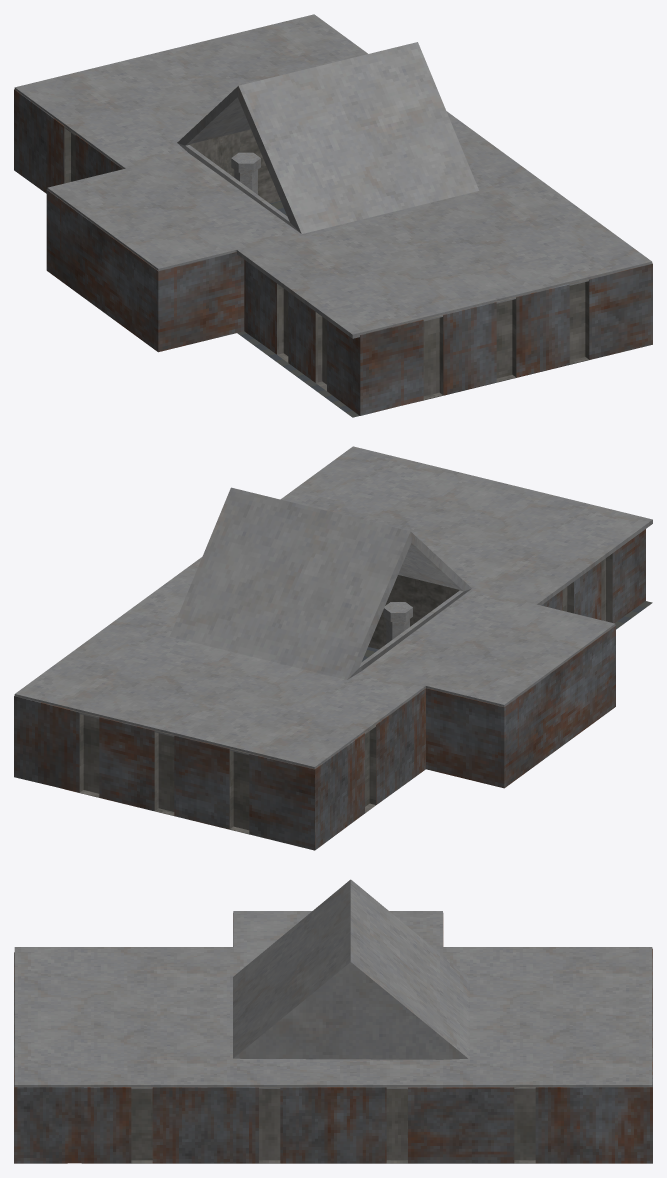
The model's file is DuckMapfinal.fbx.
3 renders of one model, top to bottom at view 1: azimuth 30°, elevation 25°; view 2: azimuth 150°, elevation 25°; view 3: azimuth 270°, elevation 25°, orthographic. The views are drawn at different scales.
Visible parts, largest first — view 1: Plane.002, Plane.001, Plane, Circle; view 2: Plane.002, Plane.001, Circle; view 3: Plane.002, Plane.001.
Part boxes in pixels (bbox=[...]): Plane.002: bbox=[14, 14, 652, 338]; Plane.001: bbox=[14, 89, 652, 415]; Plane: bbox=[237, 201, 359, 417]; Circle: bbox=[231, 152, 260, 194]; Plane.002: bbox=[14, 446, 652, 769]; Plane.001: bbox=[14, 529, 645, 850]; Circle: bbox=[383, 602, 412, 643]; Plane.002: bbox=[14, 879, 652, 1088]; Plane.001: bbox=[14, 913, 652, 1163].
Size of the model in its own units: 1321 by 621 by 2044.
